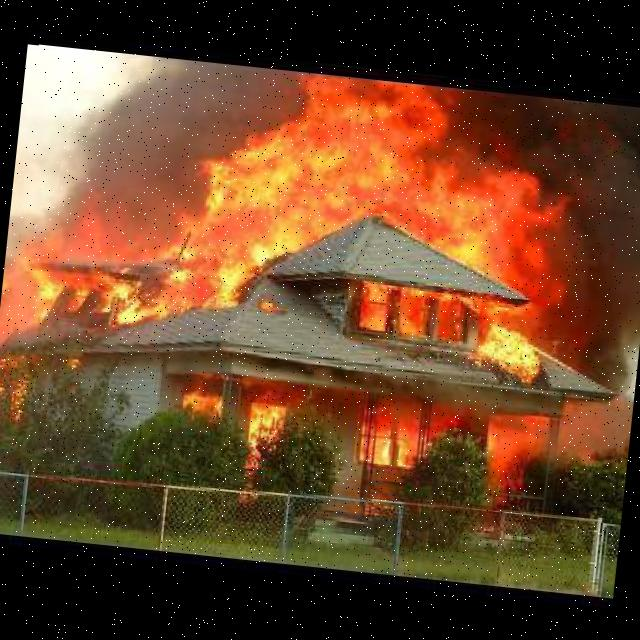fire: (0, 44, 640, 524)
